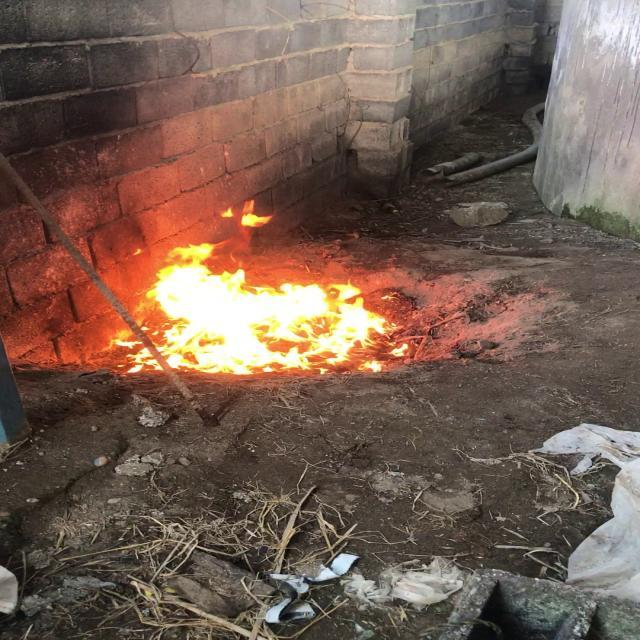Fire: (122, 231, 436, 370)
